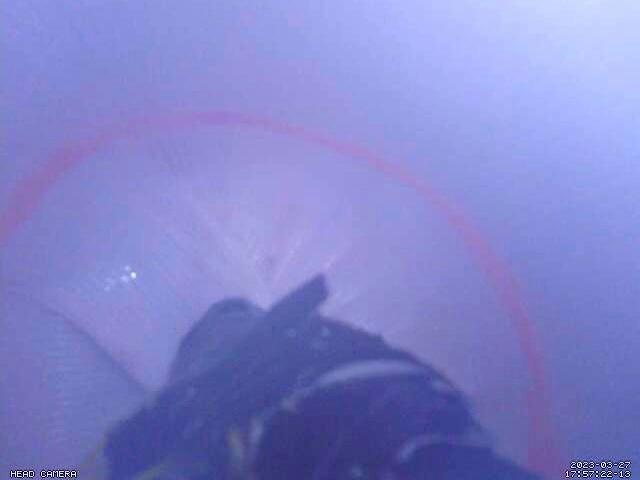head: (1, 110, 563, 480)
